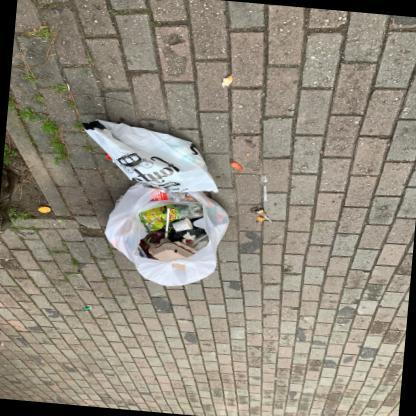Garbage: (60, 110, 244, 291), (91, 178, 237, 292), (74, 113, 236, 206)
